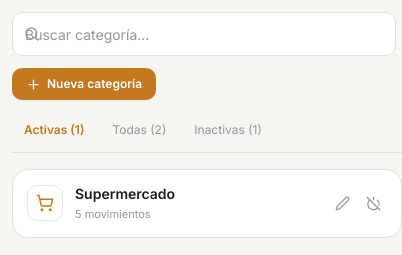
it: CategoryList › muestra categorías inactivas al filtrar por "Inactivas"
Click the button "Inactivas (1)": (228, 130) [182, 116, 274, 144]
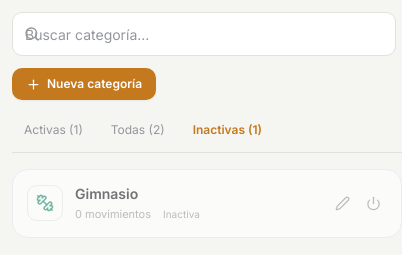
Result: the text "Gimnasio" is shown at [75, 185, 138, 202]
Result: the text "Supermercado" is gone
